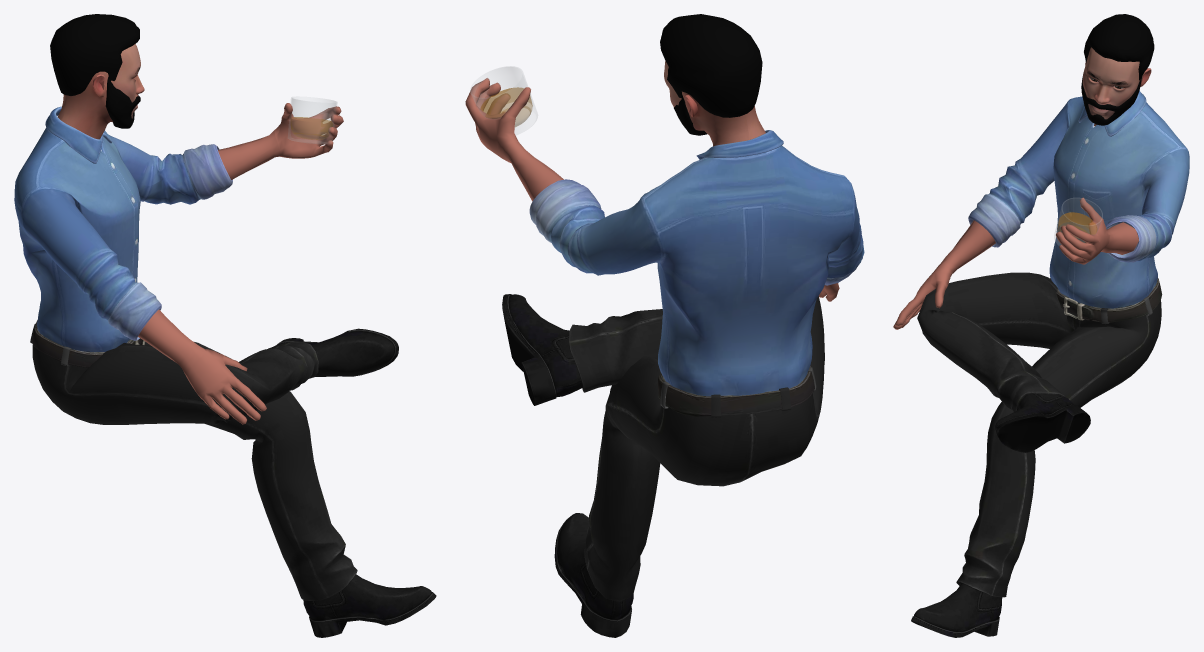
File: ManDrinking.gltf
The picture shows the model from 3 angles, left to right: view 1: azimuth 30°, elevation 25°; view 2: azimuth 150°, elevation 25°; view 3: azimuth 270°, elevation 25°; orthographic projection. The views are drawn at different scales.
Visible parts, largest first — view 1: Object_25, Object_21, Object_19, Object_23, Object_15, Object_11, WhWh_low_WhWh_0, Object_17; view 2: Object_25, Object_21, Object_23, Object_15, Object_19, WhWh_low_WhWh_0, Object_11; view 3: Object_21, Object_25, Object_23, Object_19, Object_15, Object_11, WhWh_low_WhWh_0, Object_17.
Boxes of the visible parts, box(x1,y1,x2,y2) form: Object_25: box(14, 106, 232, 352); Object_21: box(30, 320, 357, 600); Object_19: box(138, 103, 343, 424); Object_23: box(274, 328, 436, 637); Object_15: box(50, 14, 139, 95); Object_11: box(57, 44, 144, 139); WhWh_low_WhWh_0: box(288, 96, 337, 143); Object_17: box(105, 77, 140, 128); Object_25: box(529, 130, 864, 396); Object_21: box(569, 296, 824, 601); Object_23: box(502, 294, 633, 637); Object_15: box(660, 14, 762, 117); Object_19: box(465, 78, 839, 301); WhWh_low_WhWh_0: box(470, 66, 537, 134); Object_11: box(664, 61, 765, 146); Object_21: box(917, 272, 1162, 597); Object_25: box(968, 90, 1189, 308); Object_23: box(911, 394, 1090, 637); Object_19: box(893, 197, 1138, 329); Object_15: box(1084, 14, 1154, 80); Object_11: box(1082, 47, 1151, 126); WhWh_low_WhWh_0: box(1054, 198, 1102, 245); Object_17: box(1081, 74, 1142, 125).
Bounding box in the file's own units: 7.56 × 13.01 × 6.41.
10 materials, 10 textured.
